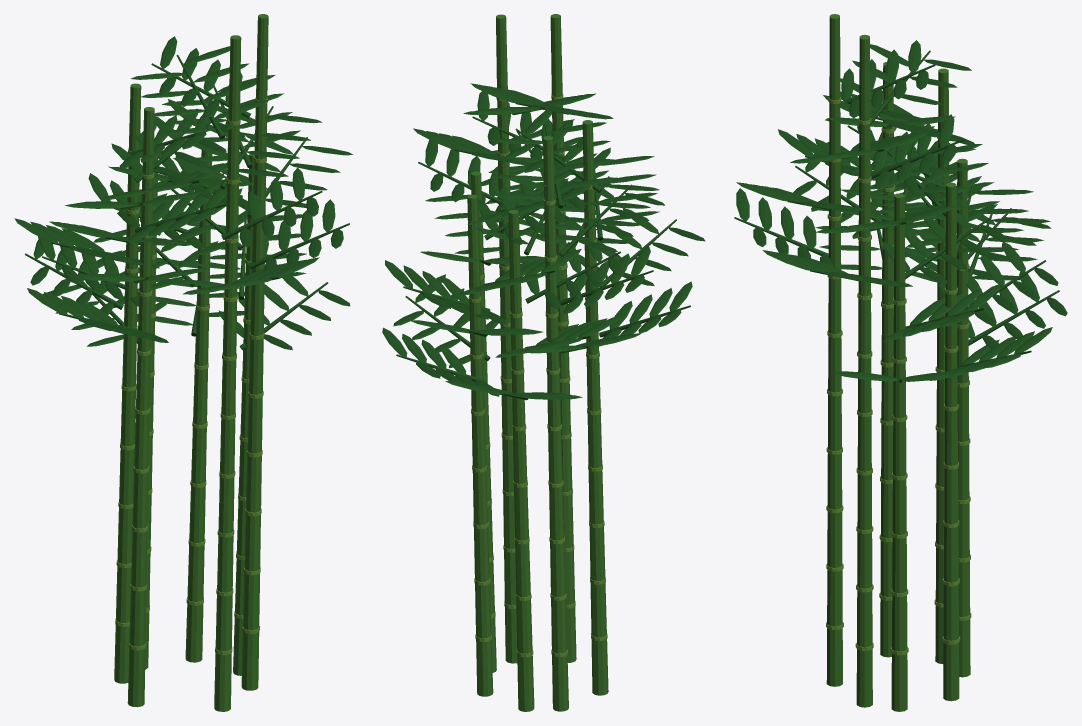
3 renders of one model, left to right at view 1: azimuth 30°, elevation 25°; view 2: azimuth 150°, elevation 25°; view 3: azimuth 270°, elevation 25°, orthographic. The views are drawn at different scales.
Parts seen in each view (by area): view 1: CANE.003, CANE.006, CANE.005, CANE.002, LEAVES_Spray.002, CANE.004, LEAVES_Spray.004, LEAVES_Spray.005, LEAVES_Spray.001, LEAVES_Spray, LEAVES_Spray.006, CANE.001 (+5 smaller); view 2: CANE.002, CANE.005, CANE, CANE.004, CANE.006, LEAVES_Spray.004, LEAVES_Spray.001, CANE.003, LEAVES_Spray.003, LEAVES_Spray.006, LEAVES_Spray, LEAVES_Spray.005 (+3 smaller); view 3: CANE.006, CANE.003, CANE.001, CANE.004, LEAVES_Spray.002, LEAVES_Spray, LEAVES_Spray.005, LEAVES_Spray.003, CANE.005, CANE, LEAVES_Spray.006, CANE.002 (+6 smaller).
Boxes of the visible parts, <box> form: CANE.003: <box>214,35,241,711</box>; CANE.006: <box>241,14,268,690</box>; CANE.005: <box>127,107,154,707</box>; CANE.002: <box>114,83,141,683</box>; LEAVES_Spray.002: <box>130,46,322,294</box>; CANE.004: <box>185,150,212,662</box>; LEAVES_Spray.004: <box>27,99,245,342</box>; LEAVES_Spray.005: <box>159,36,353,270</box>; LEAVES_Spray.001: <box>14,107,218,319</box>; LEAVES_Spray: <box>141,148,350,350</box>; LEAVES_Spray.006: <box>38,163,227,346</box>; CANE.001: <box>233,154,254,675</box>; CANE.002: <box>543,136,568,711</box>; CANE.005: <box>582,120,608,695</box>; CANE: <box>508,209,534,711</box>; CANE.004: <box>467,194,493,696</box>; CANE.006: <box>496,14,517,663</box>; LEAVES_Spray.004: <box>505,110,705,346</box>; LEAVES_Spray.001: <box>488,122,664,353</box>; CANE.003: <box>550,14,576,662</box>; LEAVES_Spray.003: <box>382,168,584,396</box>; LEAVES_Spray.006: <box>445,174,623,399</box>; LEAVES_Spray: <box>385,177,581,367</box>; LEAVES_Spray.005: <box>413,93,596,254</box>; CANE.006: <box>856,34,872,707</box>; CANE.003: <box>826,14,842,686</box>; CANE.001: <box>891,193,907,711</box>; CANE.004: <box>943,182,959,701</box>; LEAVES_Spray.002: <box>736,40,929,265</box>; LEAVES_Spray: <box>835,147,1008,381</box>; LEAVES_Spray.005: <box>762,44,971,286</box>; LEAVES_Spray.003: <box>850,126,1058,380</box>; CANE.005: <box>880,62,894,657</box>; CANE: <box>957,158,970,677</box>; LEAVES_Spray.006: <box>870,129,1067,348</box>; CANE.002: <box>935,68,949,663</box>.
Bounding box in the file's own units: 2.16 × 4.8 × 2.15.
